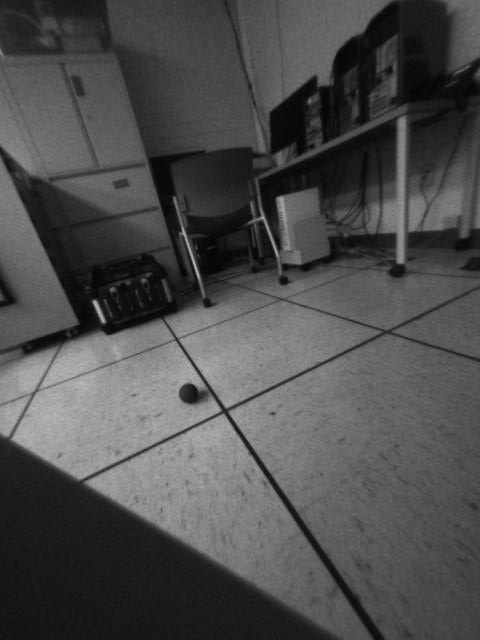dogtoy: (171, 379, 206, 408)
